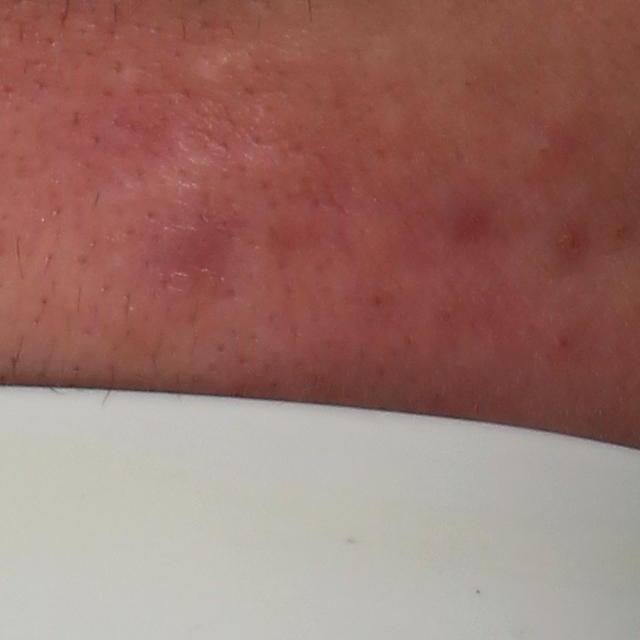hypertrophic_scar: (150, 33, 259, 93)
